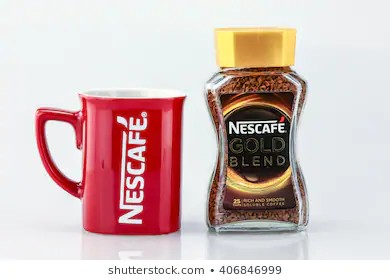nescafe-classic/gold-med: (204, 27, 311, 232)
nescafe-mug: (29, 88, 182, 233)
